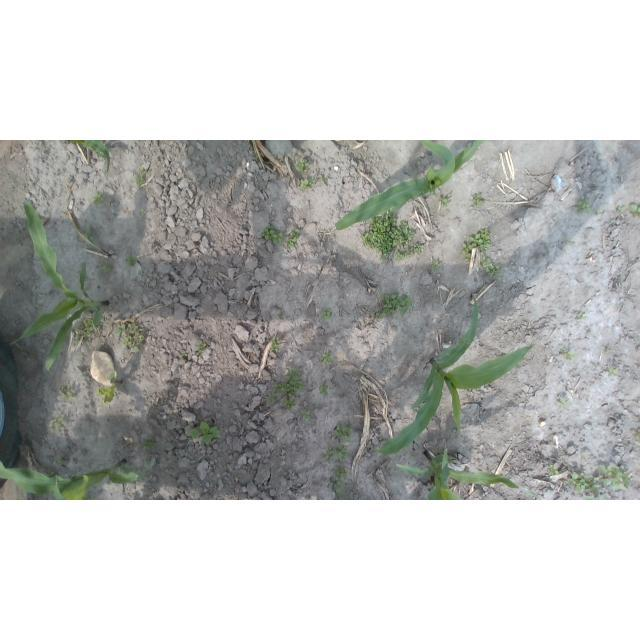Maize: (370, 293, 535, 457), (9, 202, 111, 372), (334, 140, 485, 232), (393, 450, 547, 500), (1, 457, 158, 500), (62, 141, 112, 174)
Weeds: (362, 211, 425, 262), (568, 472, 608, 500), (375, 292, 413, 319), (461, 229, 491, 262), (596, 465, 632, 491), (115, 324, 146, 353), (98, 371, 122, 405), (189, 422, 220, 445), (74, 318, 103, 340), (475, 259, 501, 278), (325, 443, 351, 462), (286, 368, 305, 392), (333, 422, 354, 443), (261, 224, 283, 244), (286, 228, 301, 248), (576, 196, 593, 213), (329, 478, 345, 495), (430, 258, 443, 275), (61, 384, 76, 398), (299, 178, 315, 191), (560, 348, 577, 360), (295, 158, 309, 172), (333, 467, 350, 478), (322, 350, 334, 365), (195, 344, 208, 357), (472, 193, 484, 207), (270, 339, 281, 353), (93, 192, 104, 205), (558, 397, 569, 410), (142, 441, 156, 451), (127, 255, 139, 266), (546, 465, 559, 475), (630, 205, 640, 218), (286, 400, 297, 411), (608, 366, 619, 377), (317, 175, 328, 186), (274, 382, 286, 392), (54, 417, 64, 429), (301, 410, 311, 421), (322, 310, 333, 320), (438, 197, 449, 207), (319, 385, 329, 395), (269, 392, 276, 404), (87, 230, 94, 242), (136, 176, 144, 186), (635, 428, 640, 443), (578, 312, 587, 319), (618, 206, 627, 213), (58, 459, 66, 466), (180, 353, 189, 359), (102, 265, 110, 271), (605, 348, 612, 354), (278, 314, 284, 321), (140, 168, 148, 173), (565, 238, 571, 244), (142, 210, 147, 216), (596, 211, 601, 216)
